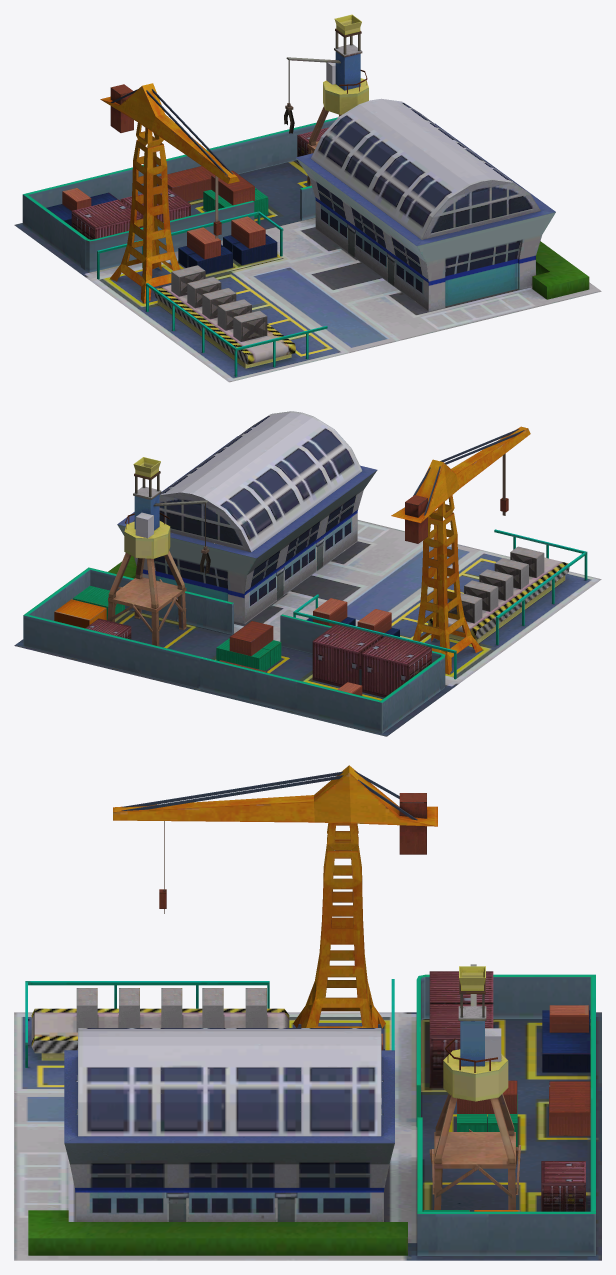
File: cangku.FBX
The picture shows the model from 3 angles, top to bottom: view 1: azimuth 30°, elevation 25°; view 2: azimuth 150°, elevation 25°; view 3: azimuth 270°, elevation 25°; orthographic projection. The views are drawn at different scales.
Visible parts, largest first — view 1: huoyunjisanzhongxin; view 2: huoyunjisanzhongxin; view 3: huoyunjisanzhongxin.
Part boxes in pixels (left/top/right/bottom): huoyunjisanzhongxin: left=14, top=14, right=601, bottom=382; huoyunjisanzhongxin: left=14, top=411, right=601, bottom=736; huoyunjisanzhongxin: left=14, top=765, right=601, bottom=1260.
Bounding box in the file's own units: 4075 × 2070 × 4075.
